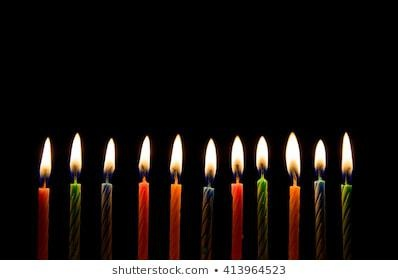fire: (284, 130, 301, 184), (38, 134, 53, 183), (168, 131, 183, 180), (339, 128, 353, 180), (69, 130, 83, 179), (202, 135, 217, 177), (231, 133, 244, 180), (254, 133, 268, 175), (312, 135, 326, 177), (101, 136, 115, 177), (137, 132, 150, 176)
